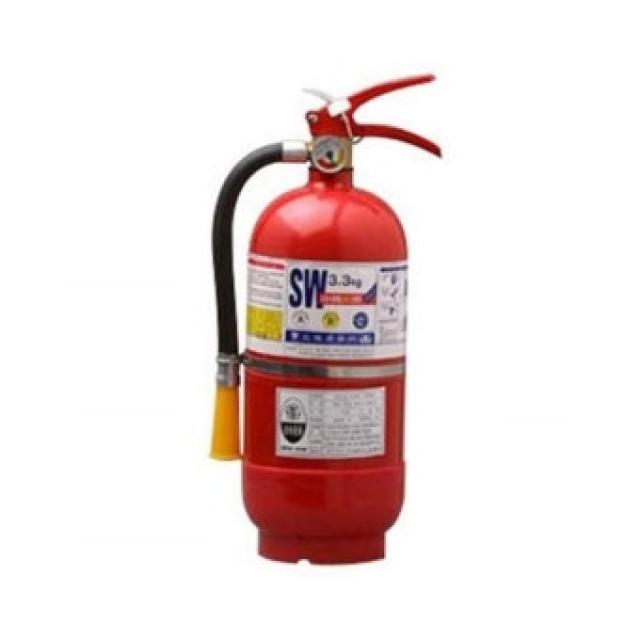pressure gauge: (311, 136, 351, 173)
